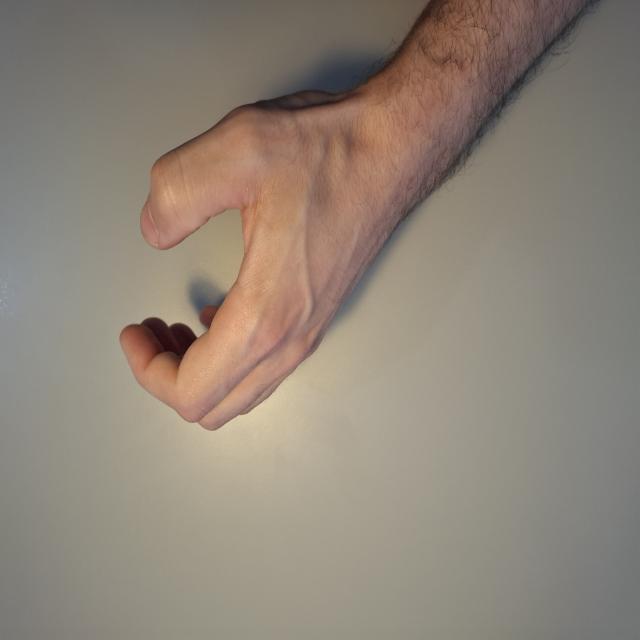glove_off: (117, 64, 403, 434)
